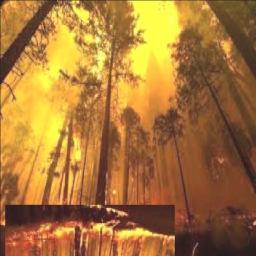Large fire: (2, 0, 255, 255)
